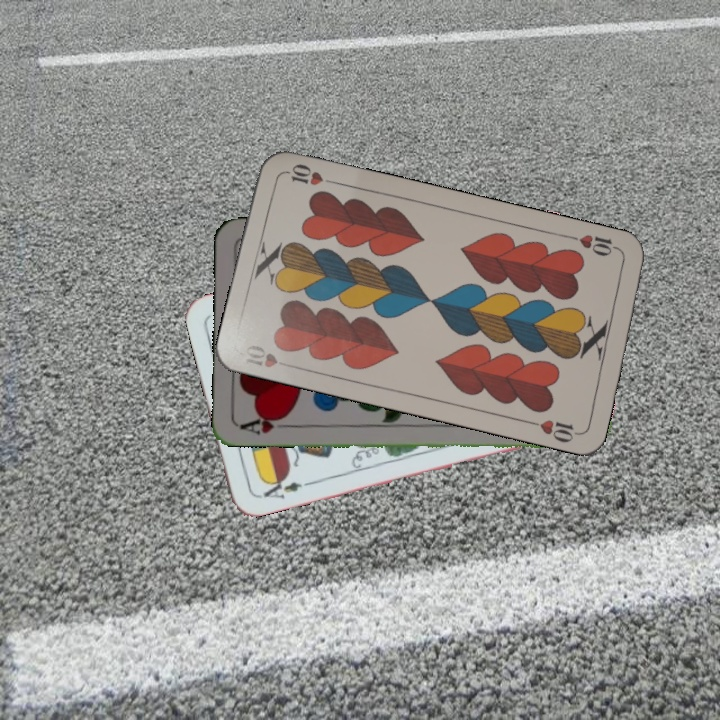EA: (254, 473, 312, 502)
H10: (239, 341, 297, 371), (565, 230, 624, 259)
HA: (237, 411, 296, 438)
